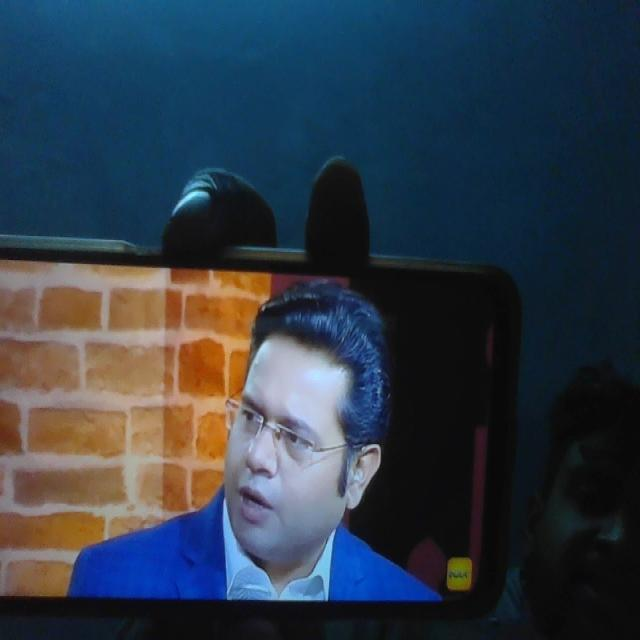fake: (223, 301, 362, 564)
